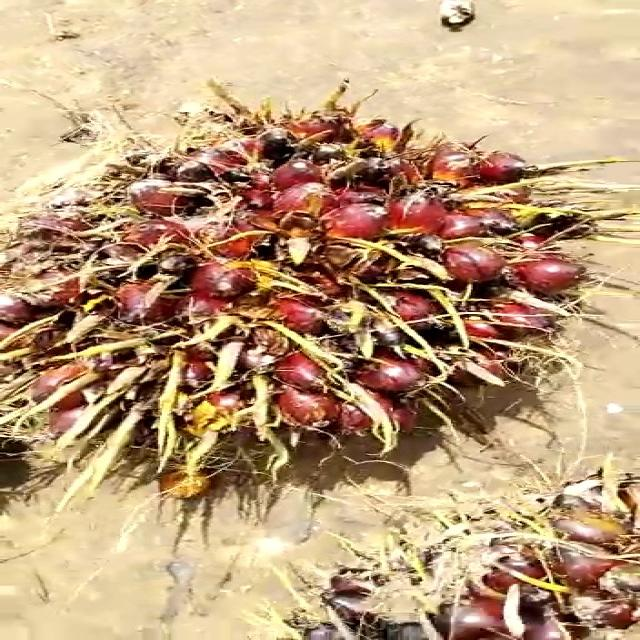palm oil: (1, 93, 609, 467)
